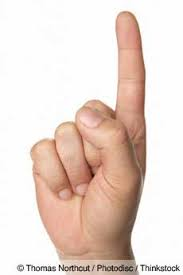move: (29, 11, 149, 257)
